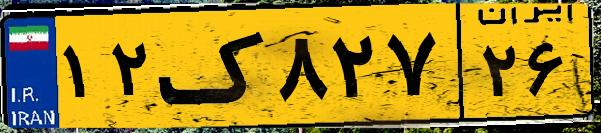1: (57, 26, 110, 100)
2: (330, 28, 385, 110), (475, 38, 525, 113), (110, 28, 158, 98)
6: (525, 38, 570, 115)
7: (385, 28, 445, 110)
8: (270, 28, 330, 110)
ک: (158, 12, 270, 120)
